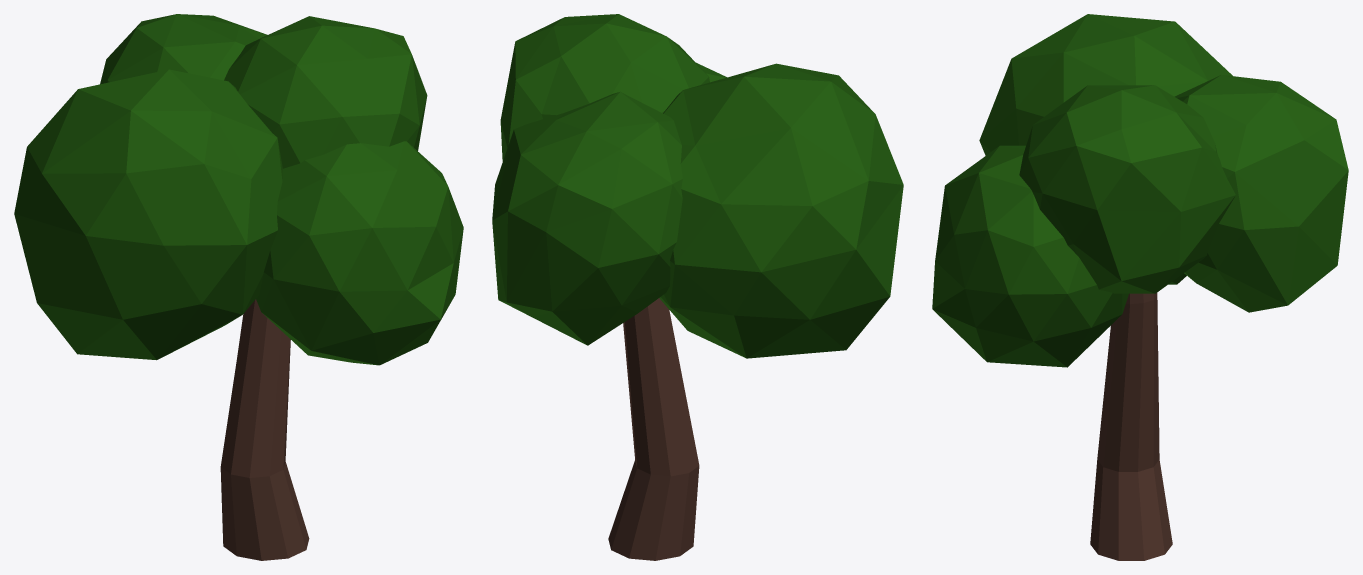
Rendered from TreeV2.fbx.
3 views of the same model, side by side, from view 1: azimuth 30°, elevation 25°; view 2: azimuth 150°, elevation 25°; view 3: azimuth 270°, elevation 25° (orthographic). The views are drawn at different scales.
Visible parts, largest first — view 1: Icosphere, Icosphere.003, Icosphere.001, Cylinder, Icosphere.002; view 2: Icosphere, Icosphere.002, Cylinder, Icosphere.001; view 3: Icosphere.001, Icosphere.002, Icosphere.003, Icosphere, Cylinder.
Part boxes in pixels (x1,y1,x2,y2): Icosphere: (14,69,282,360); Icosphere.003: (256,141,463,365); Icosphere.001: (224,16,427,168); Cylinder: (220,299,309,560); Icosphere.002: (100,14,267,84); Icosphere: (659,63,903,358); Icosphere.002: (492,91,682,345); Cylinder: (608,298,699,560); Icosphere.001: (500,14,709,161); Icosphere.001: (1019,85,1235,293); Icosphere.002: (1174,75,1348,312); Icosphere.003: (932,145,1128,367); Icosphere: (979,14,1232,284); Cylinder: (1090,293,1172,560).
Bounding box in the file's own units: 311 × 399 × 315.
